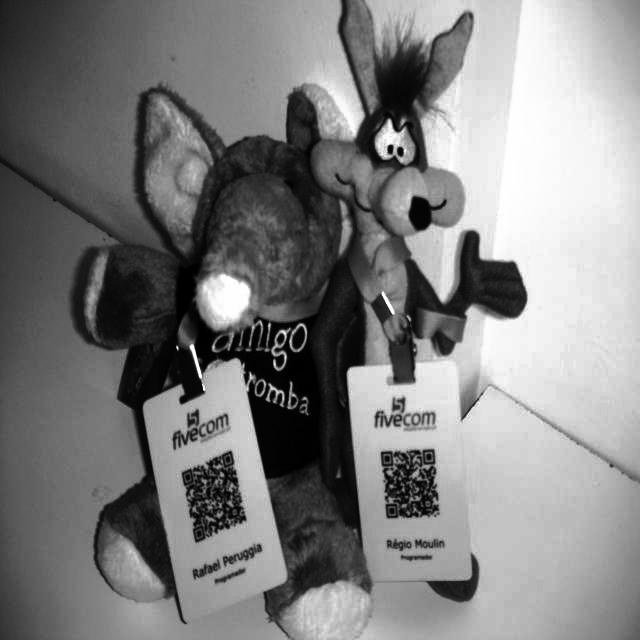qr_code: (181, 451, 246, 543), (381, 450, 439, 518)
